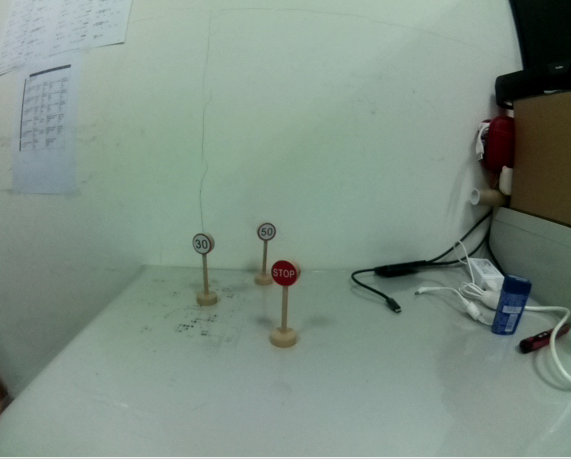Speed30: (191, 229, 217, 257)
Speed50: (255, 219, 278, 242)
Stop: (269, 259, 303, 289)
